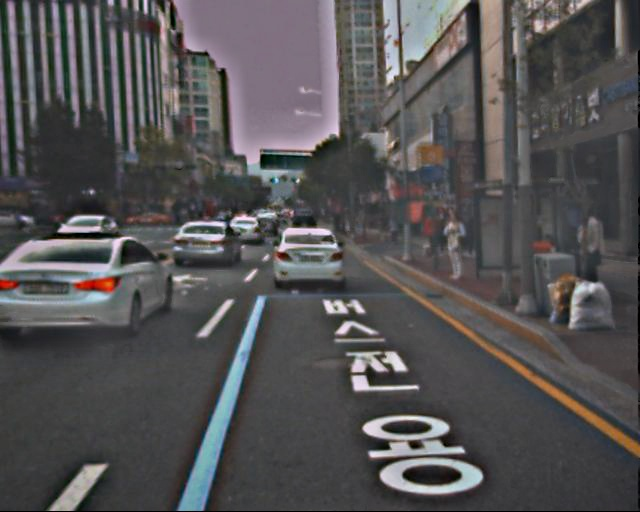person: (569, 205, 610, 304), (437, 207, 467, 281), (422, 211, 442, 259)
